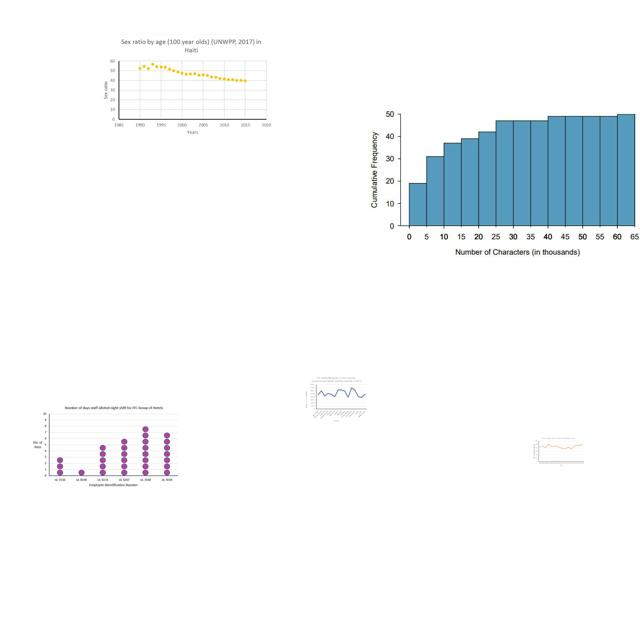Graph: (368, 96, 640, 260), (99, 34, 274, 138), (28, 404, 181, 490), (303, 376, 368, 423), (532, 437, 585, 467)
